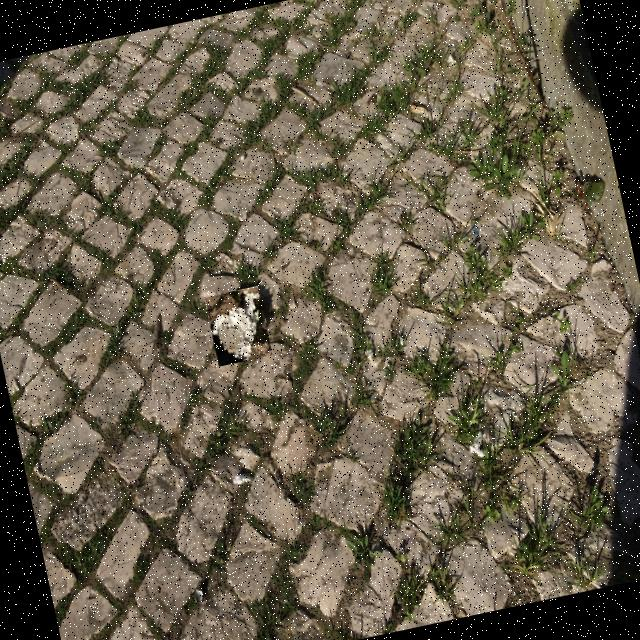Styrofoam piece: (212, 288, 260, 360), (469, 445, 485, 457), (233, 474, 251, 483), (195, 589, 202, 601), (365, 349, 373, 358)
